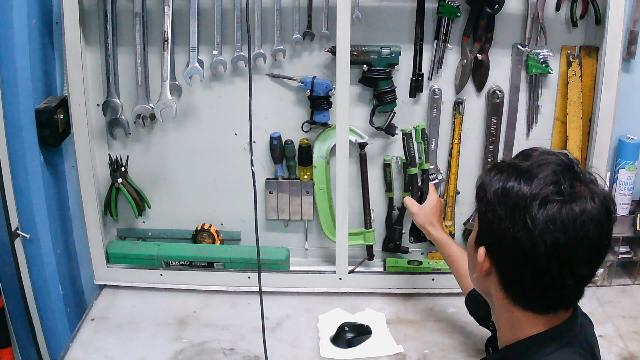tang_rivet: (400, 125, 435, 243)
